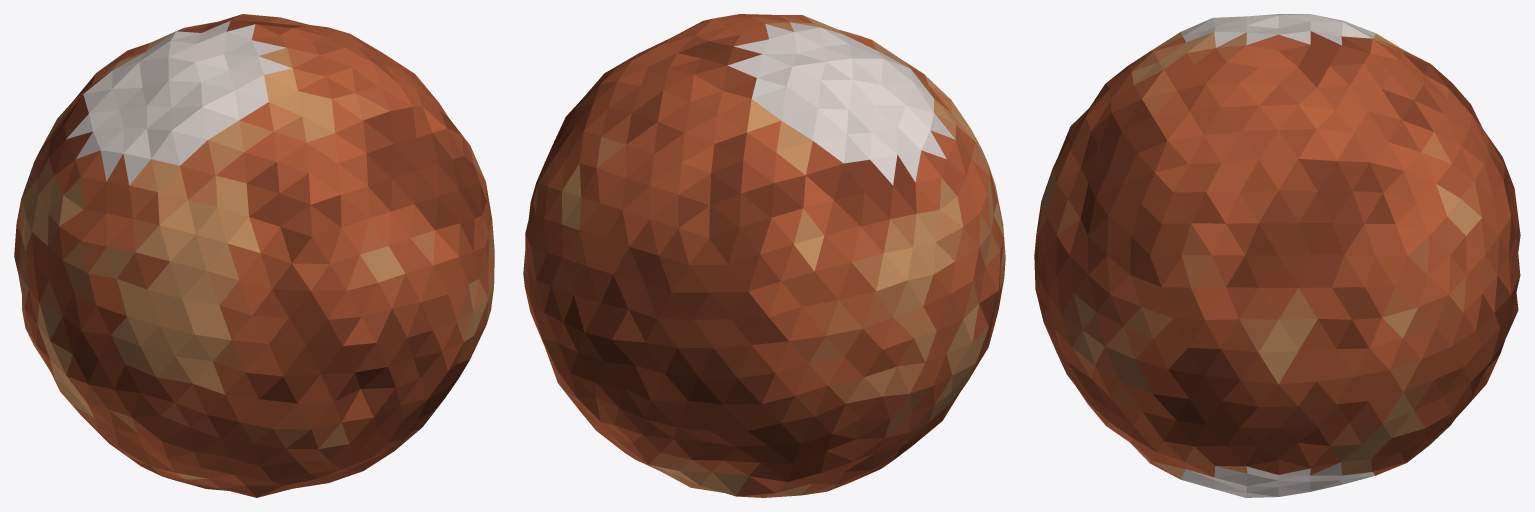
File: mars.glb
3 views of the same model, side by side, from view 1: azimuth 30°, elevation 25°; view 2: azimuth 150°, elevation 25°; view 3: azimuth 270°, elevation 25° (orthographic).
Parts seen in each view (by area): view 1: mars_body; view 2: mars_body; view 3: mars_body.
Boxes of the visible parts, <box> form: mars_body: <box>14,14,494,497</box>; mars_body: <box>523,14,1005,497</box>; mars_body: <box>1034,14,1520,497</box>.
Size of the model in its own units: 1.44 by 1.44 by 1.45.
